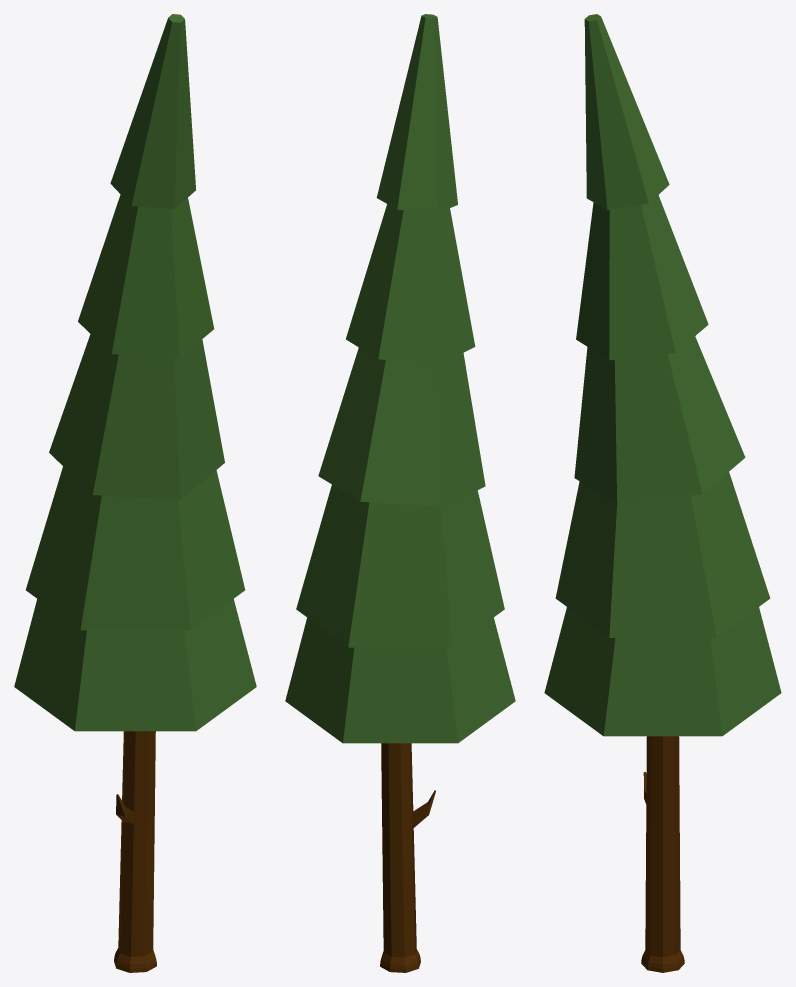
Rendered from LowPolyTree.fbx.
3 views of the same model, side by side, from view 1: azimuth 30°, elevation 25°; view 2: azimuth 150°, elevation 25°; view 3: azimuth 270°, elevation 25° (orthographic). The views are drawn at different scales.
Parts seen in each view (by area): view 1: Cylinder.001; view 2: Cylinder.001; view 3: Cylinder.001.
Part boxes in pixels (x1=…): Cylinder.001: x1=14, y1=14, x2=256, y2=972; Cylinder.001: x1=285, y1=14, x2=515, y2=972; Cylinder.001: x1=544, y1=14, x2=781, y2=972.
Size of the model in its own units: 86.82 by 443 by 100.
